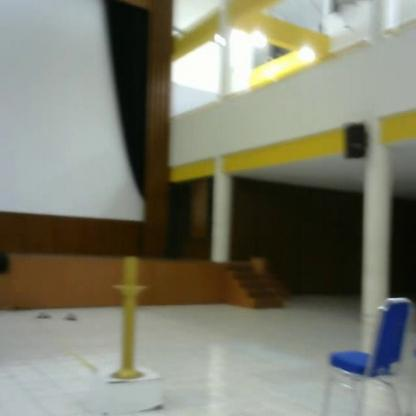pole: (108, 257, 151, 384)
